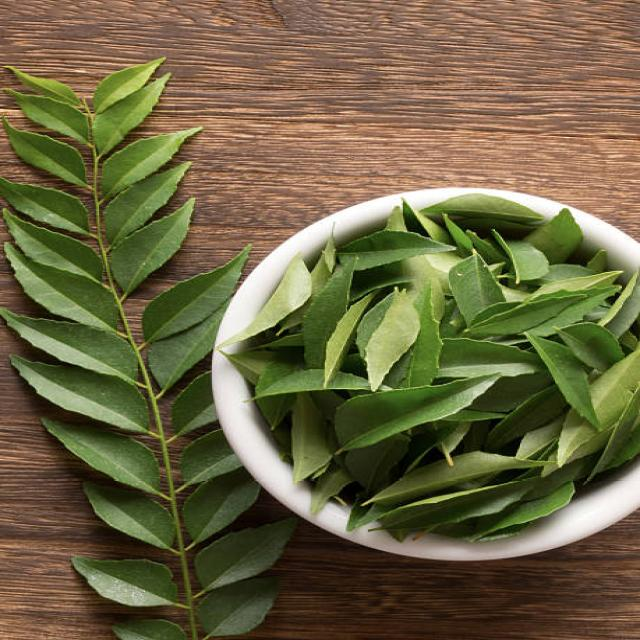Neem-Tree: (2, 59, 293, 640), (2, 59, 293, 640)
